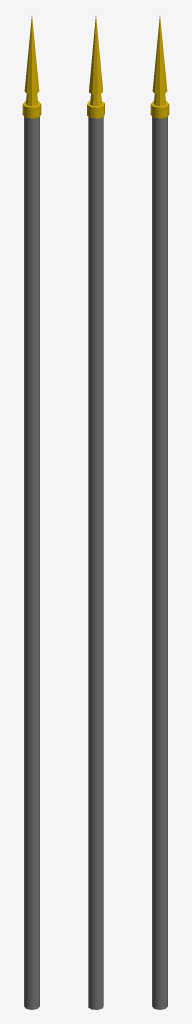
The model's file is Flag_Pole_02.fbx.
3 renders of one model, left to right at view 1: azimuth 90°, elevation 25°; view 2: azimuth 150°, elevation 25°; view 3: azimuth 270°, elevation 25°, orthographic.
Visible parts, largest first — view 1: Flag_Pole_02; view 2: Flag_Pole_02; view 3: Flag_Pole_02.
Boxes of the visible parts, x1,y1,x2,y2 form: Flag_Pole_02: [22, 16, 41, 1009]; Flag_Pole_02: [87, 16, 104, 1009]; Flag_Pole_02: [150, 16, 169, 1009].
Bounding box in the file's own units: 1.4 × 82.93 × 1.4.
